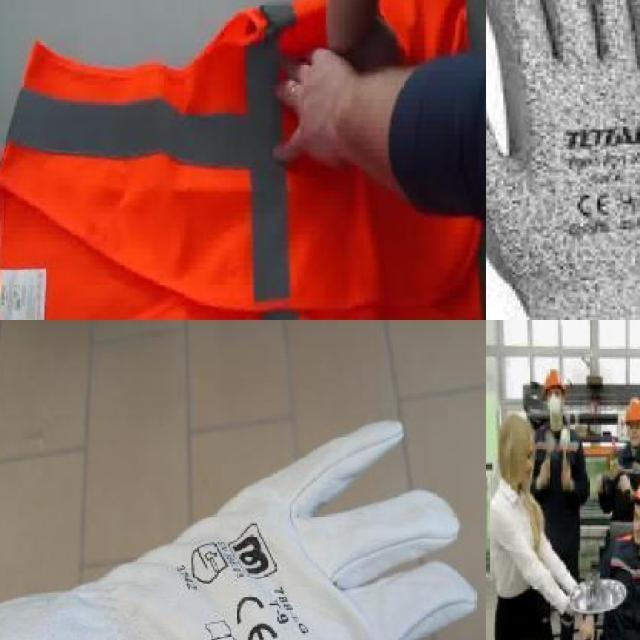apron: (0, 395, 460, 640), (486, 0, 640, 320)
